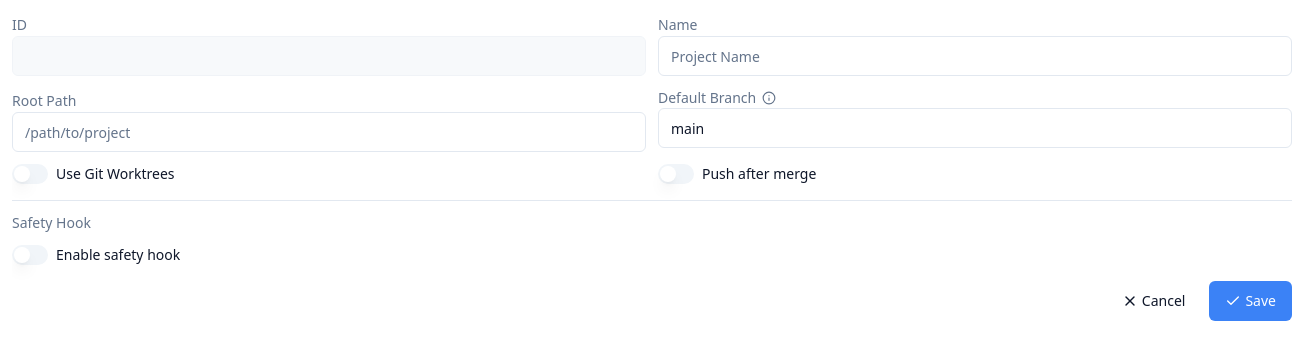
Test: ProjectForm — push after merge toggle › shows tooltip on hover
Hover over the text "Push after merge" at (759, 174), box [702, 164, 816, 184]
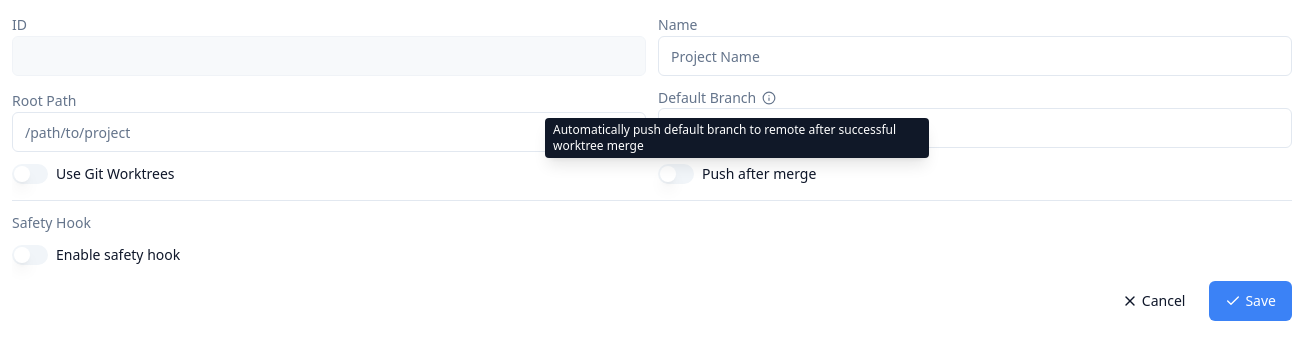
Expected: the tooltip shows "Automatically push default branch", [553, 121, 896, 154]
